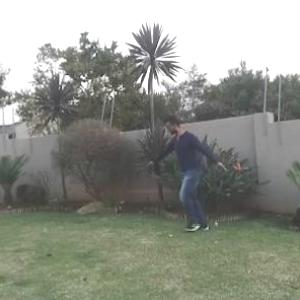land: (129, 101, 249, 250)
